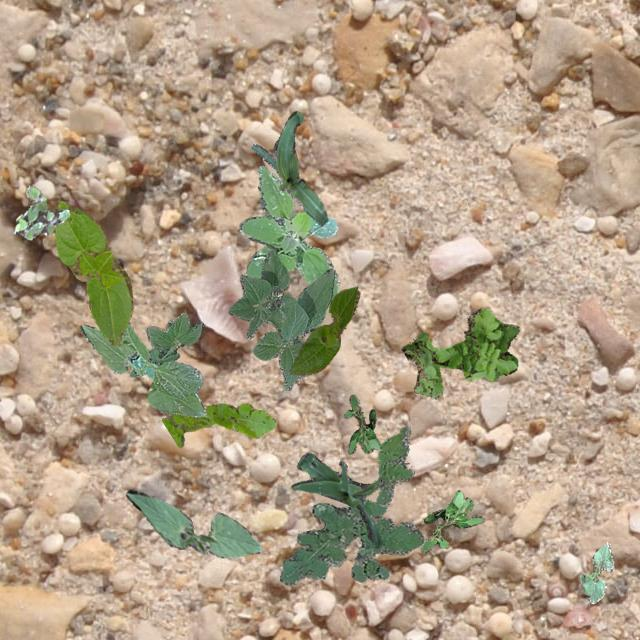crop: (228, 248, 334, 389), (78, 322, 205, 416), (54, 200, 132, 344), (126, 488, 262, 556), (291, 452, 384, 548), (250, 110, 326, 226), (288, 286, 358, 374), (128, 312, 202, 376), (580, 540, 614, 602)
weed: (278, 426, 422, 584), (236, 164, 338, 300), (400, 308, 518, 398), (147, 382, 275, 447), (419, 489, 484, 552), (12, 184, 68, 238), (342, 394, 380, 454)
